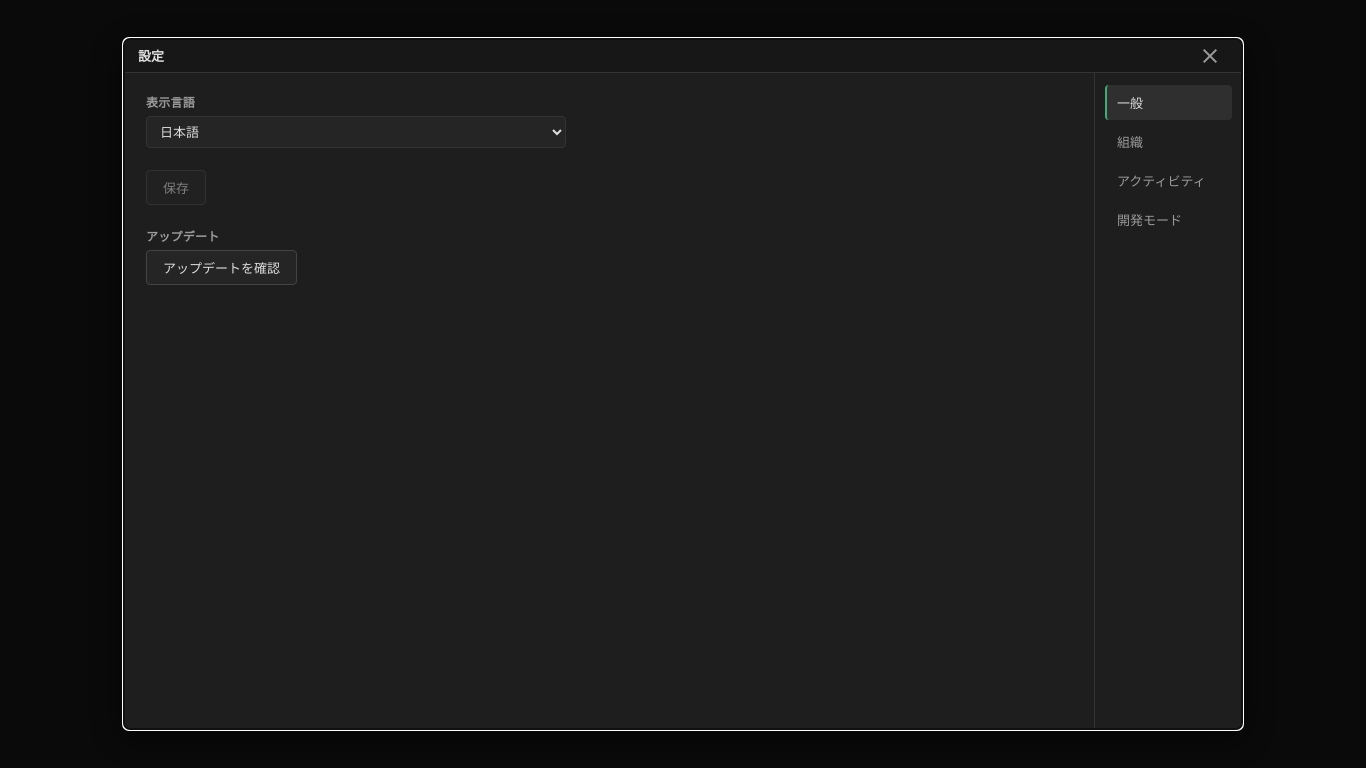
Test case: SettingsModal General tab › reports being up to date
Click the button "アップデートを確認" at (222, 268), box [146,250,297,285]
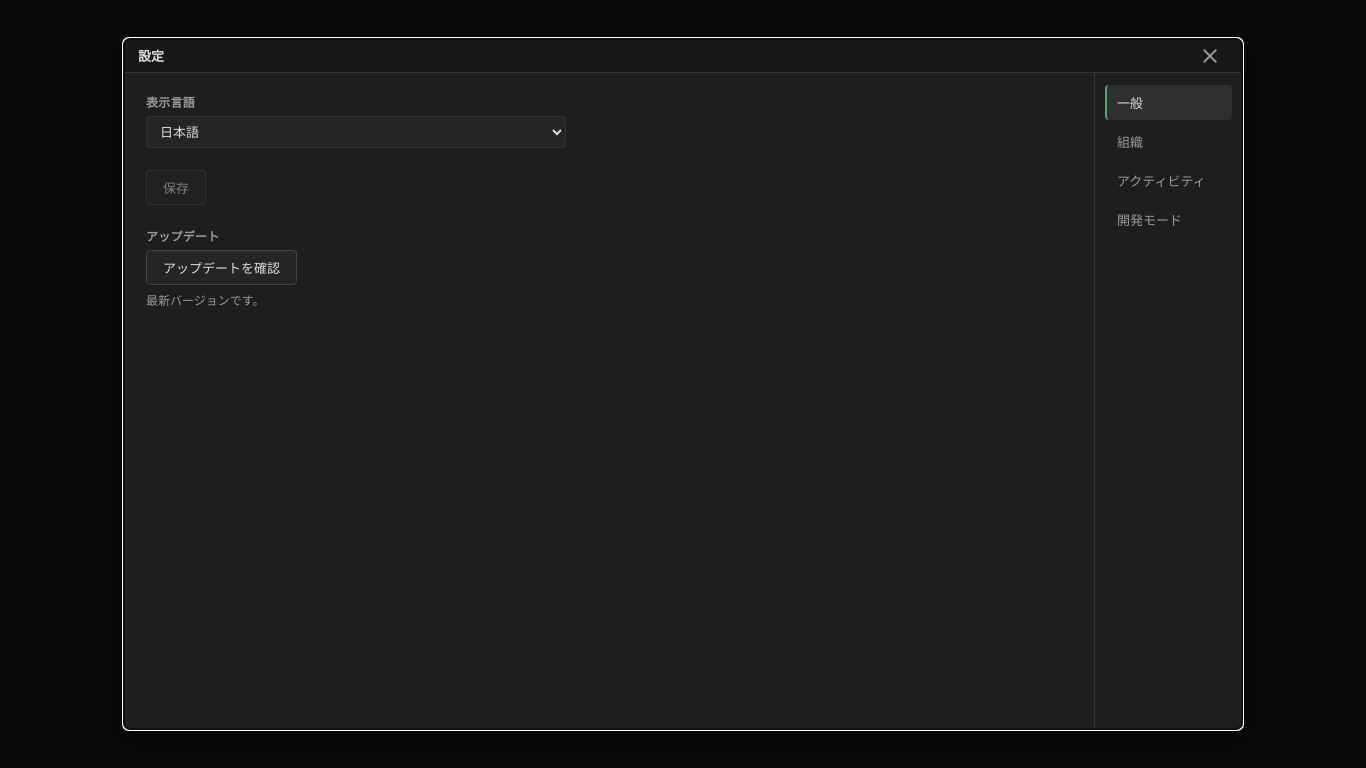
Expected: the text "最新バージョンです。" is shown, [146,293,265,308]
